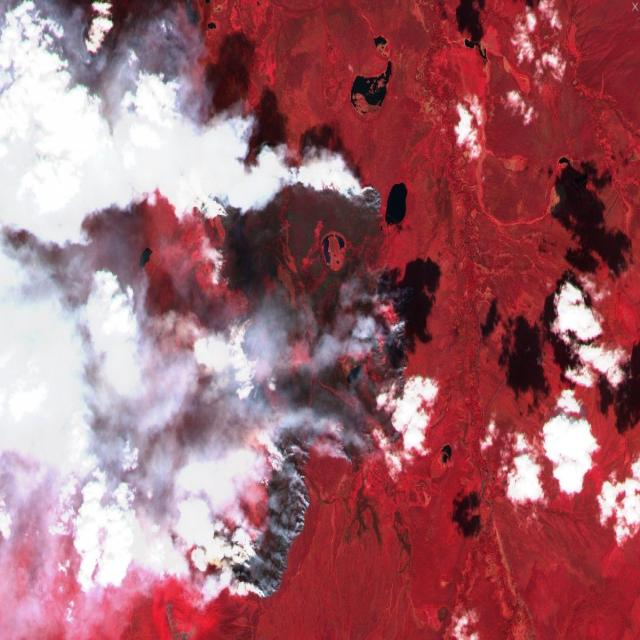fire: (191, 133, 422, 606)
